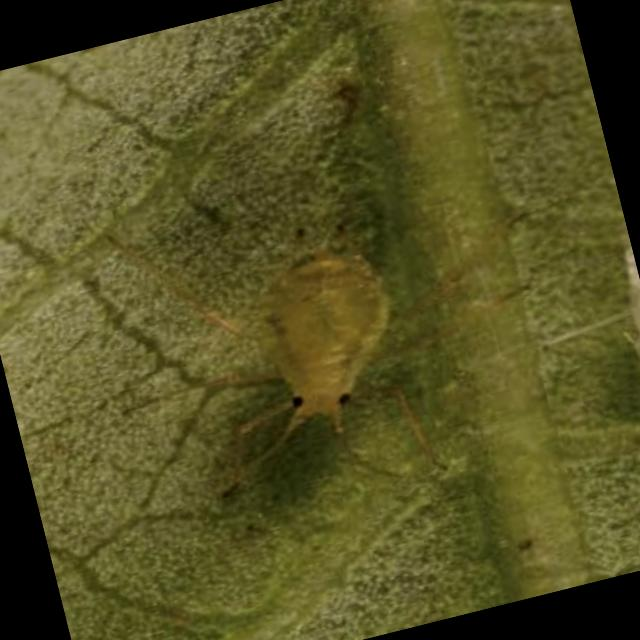Green peach aphid: (162, 180, 499, 554)
